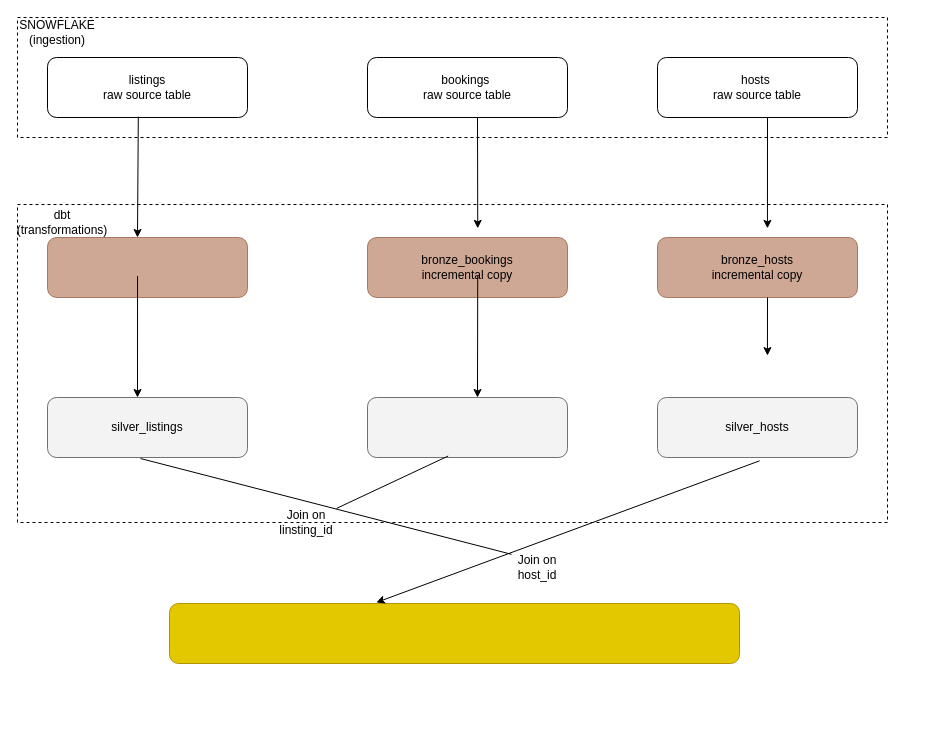
The diagram is 925 pixels wide and 735 high, and some of its shapes have lost their labels. Here are the shapes that lost their labels. From the top down, the centre of each, then its label:
At (x=147, y=267): "bronze_listings incremental copy".
At (x=467, y=427): "silver_bookings".
At (x=454, y=633): "gold One Big Table".
